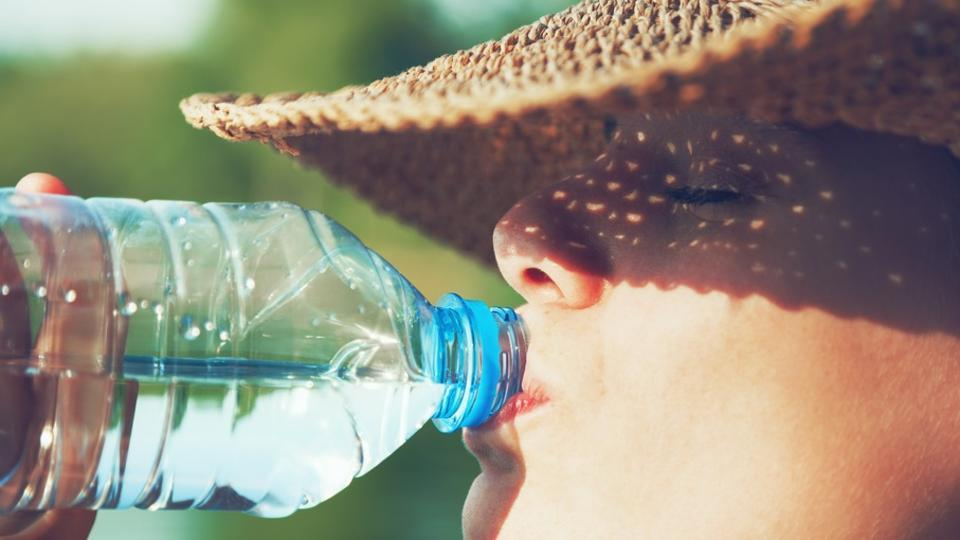bottle: (1, 188, 524, 518)
